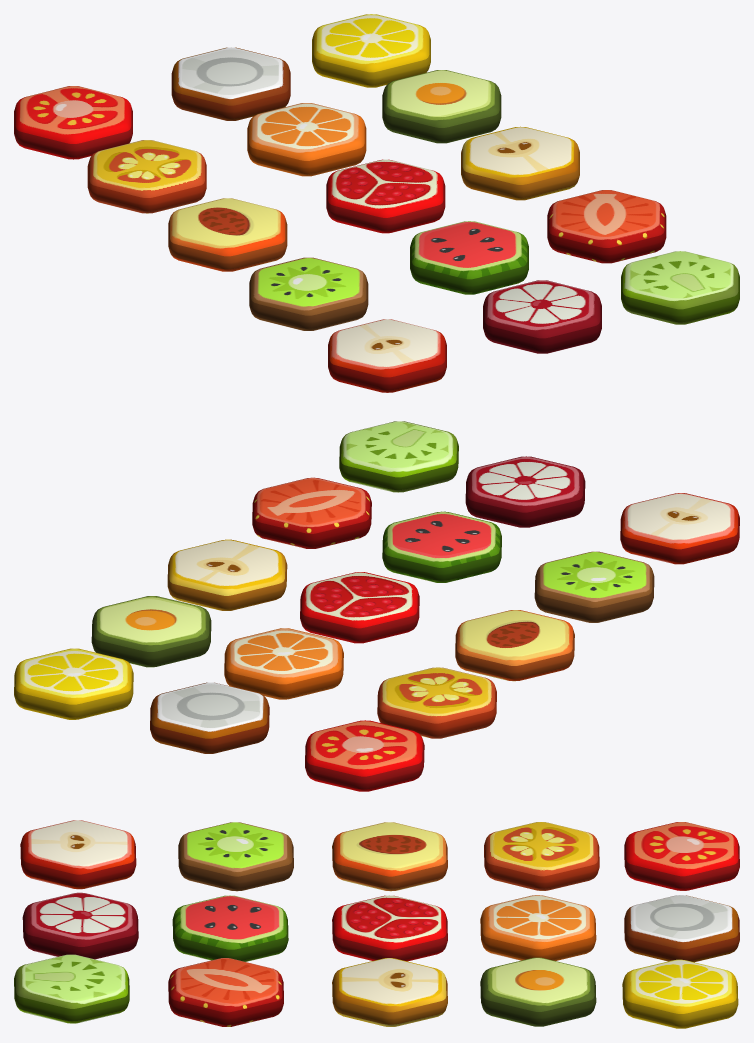
Rendered from fruit_deneme_1.fbx.
3 renders of one model, top to bottom at view 1: azimuth 30°, elevation 25°; view 2: azimuth 150°, elevation 25°; view 3: azimuth 270°, elevation 25°, orthographic. The views are drawn at different scales.
Parts seen in each view (by area): view 1: new avacado, new peach, new stawberry, new kiwi, new pomegrante, new pepper, new orange, new apple, new pear, new watermelon, new apple.001, new grapefruit (+3 smaller); view 2: new pomegrante, new tomato, new lemon, new apple, new apple.001, new coconut, new peach, new grapefruit, new stawberry, new watermelon, new pear, new kiwi (+3 smaller); view 3: new apple.001, new avacado, new lemon, new apple, new peach, new kiwi, new tomato, new pear, new stawberry, new pepper, new coconut, new watermelon (+3 smaller).
Boxes of the visible parts, x1,y1,x2,y2 form: new avacado: (382, 70, 501, 143); new peach: (168, 198, 287, 271); new stawberry: (547, 190, 666, 263); new kiwi: (249, 257, 368, 330); new pomegrante: (326, 159, 445, 233); new pepper: (87, 140, 206, 213); new orange: (247, 103, 366, 176); new apple: (328, 319, 446, 392); new pear: (461, 126, 579, 200); new watermelon: (410, 221, 528, 294); new apple.001: (621, 251, 739, 324); new grapefruit: (483, 280, 601, 353); new pomegrante: (300, 572, 419, 643); new tomato: (305, 720, 424, 791); new lemon: (14, 648, 133, 719); new apple: (620, 493, 739, 564); new apple.001: (339, 421, 458, 492); new coconut: (150, 682, 269, 753); new peach: (455, 610, 574, 681); new grapefruit: (465, 456, 585, 527); new stawberry: (252, 477, 371, 548); new watermelon: (382, 511, 501, 582); new pear: (167, 539, 287, 610); new kiwi: (534, 551, 654, 622); new apple.001: (14, 954, 129, 1023); new avacado: (480, 957, 596, 1026); new lemon: (622, 959, 738, 1028); new apple: (20, 820, 136, 889); new peach: (332, 822, 447, 891); new kiwi: (178, 822, 293, 891); new tomato: (624, 822, 739, 890); new pear: (332, 958, 447, 1026); new stawberry: (168, 958, 283, 1026); new pepper: (484, 822, 599, 890); new coconut: (624, 895, 739, 962); new watermelon: (172, 895, 288, 961).
Bounding box in the file's own units: 2734 × 157 × 4357.
Materials: 15 (15 with a texture image).
